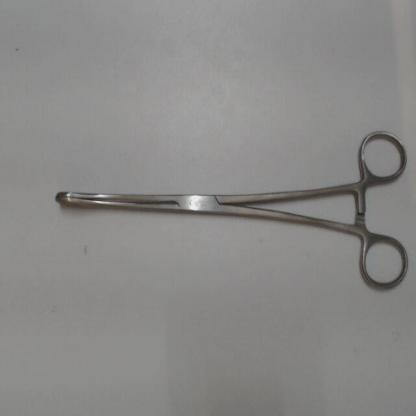Sponge Forceps: (45, 122, 416, 295)
